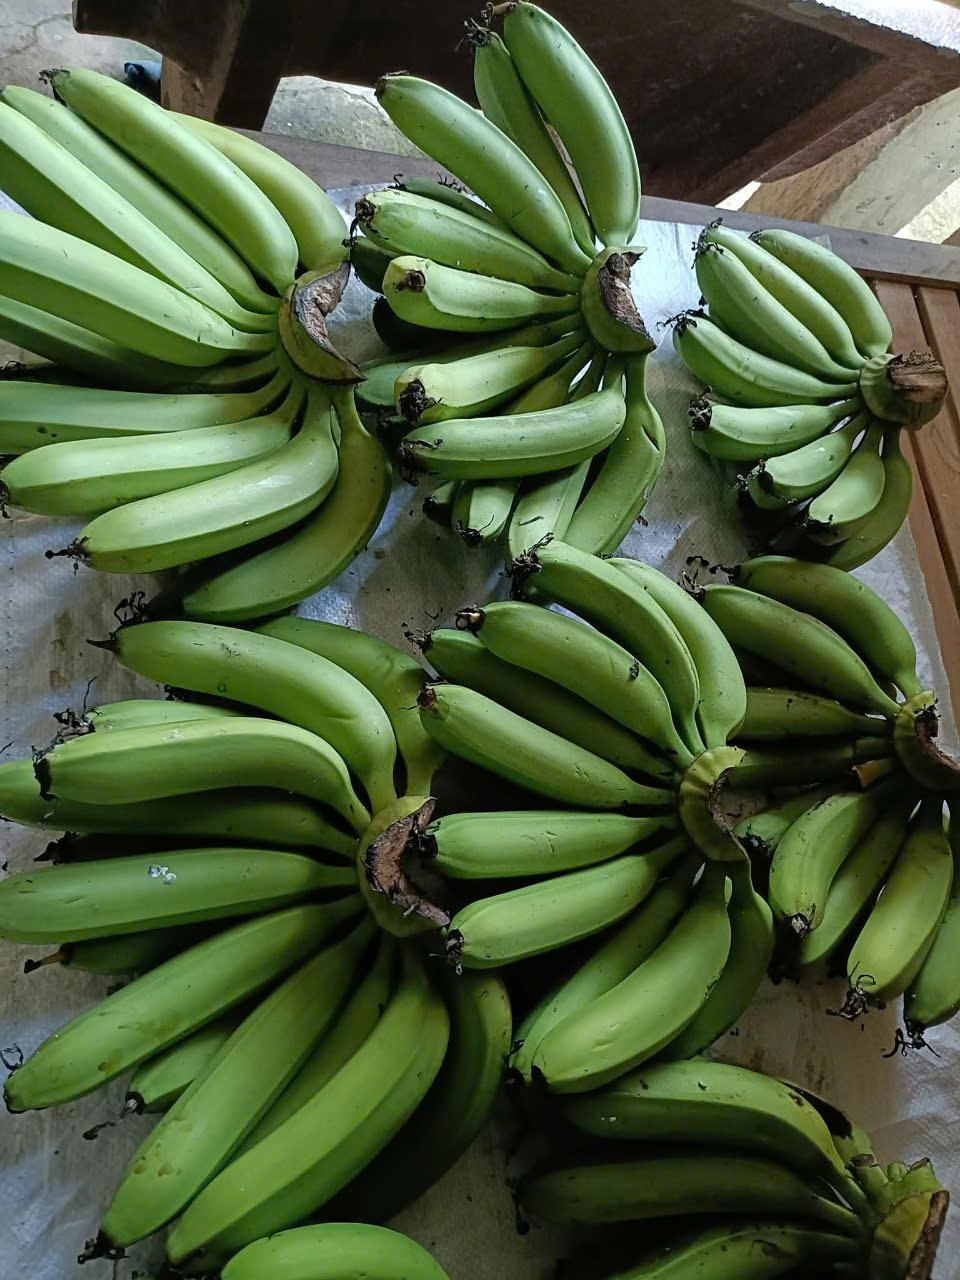banana: (343, 0, 682, 263), (377, 320, 687, 558)
